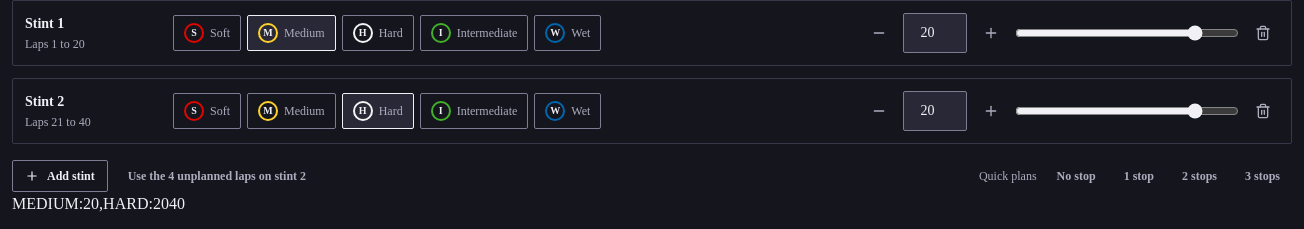
Scenario: StintEditor › changes laps by typing, but never beyond the race
Replace the text in the number field named "Stint 1 laps" with "40". click: (935, 33)
box: [903,13,967,53]
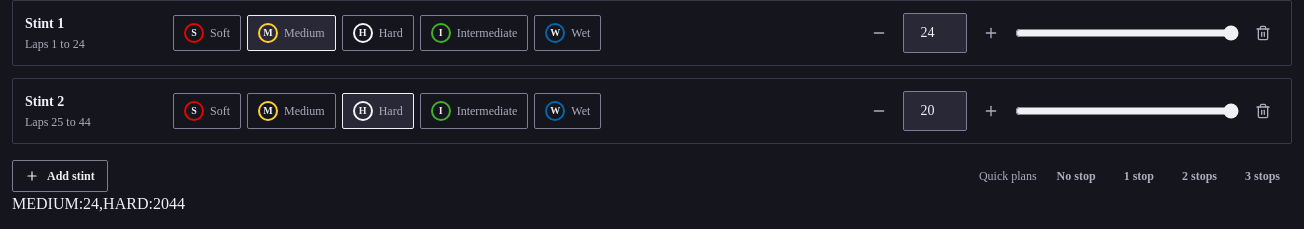
expect the text named "plan" reads "MEDIUM:24,HARD:20": met, box [12,195,169,212]
